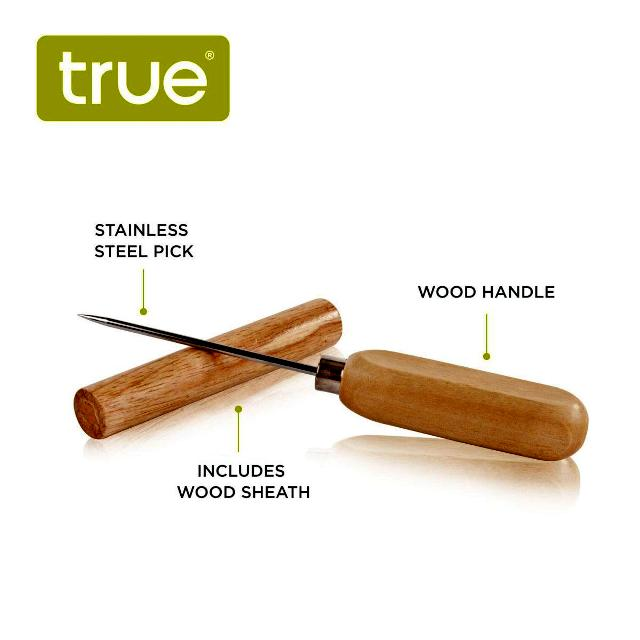ice pick: (76, 311, 590, 461)
